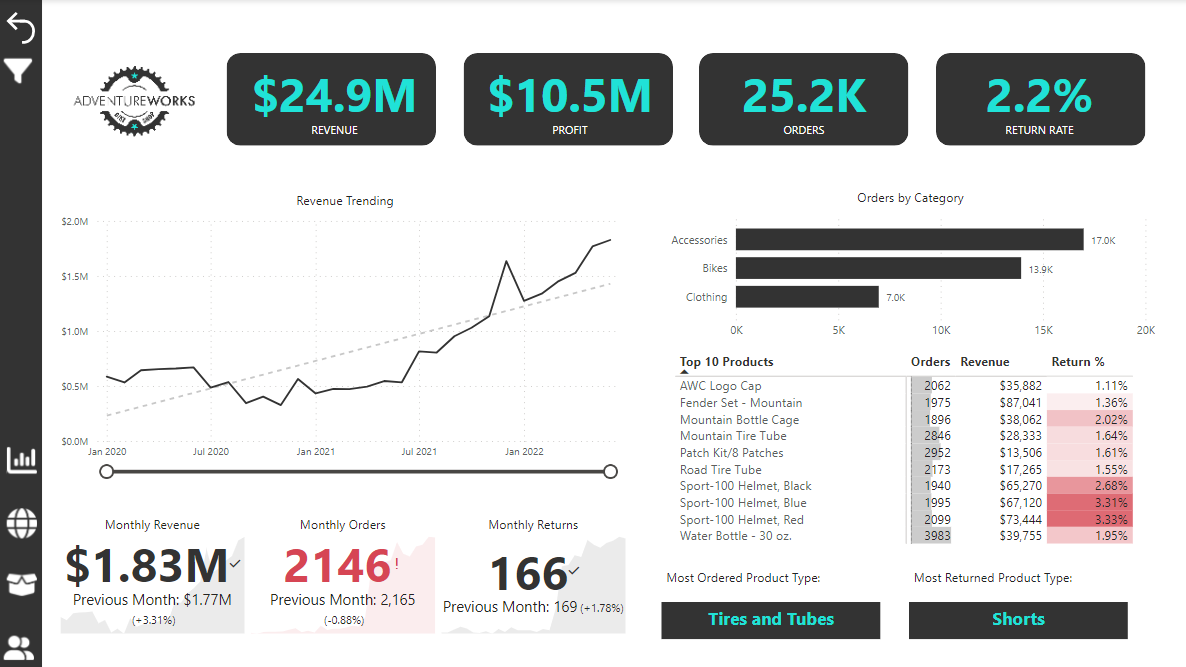

This screenshot's page, from the dashboard's own definition file:
{"tool":"powerbi","page":{"name":"Exec Dashboard","canvas":[1280,720],"ordinal":0},"visuals":[{"type":"card","fields":{"Values":["Measure Table.Total Revenue"]},"box":[230,11.7,261.7,193.3],"z":0,"group":"g2"},{"type":"image","title":"AW Logo","box":[59.3,13,170.4,194.4],"z":0},{"type":"group","id":"g1","title":"KPI Background","box":[244.4,59.1,990.7,100.2],"z":0,"group":"g3"},{"type":"shape","box":[244.4,59.3,225.9,100],"z":0,"group":"g1"},{"type":"actionButton","box":[3.8,477.3,45.3,40.4],"z":0,"group":"g4"},{"type":"shape","title":"Left Nav Background","box":[0,0,45,720.4],"z":1000},{"type":"group","id":"g2","title":"KPI Values","box":[230,11.7,1021.7,193.3],"z":1000,"group":"g3"},{"type":"card","fields":{"Values":["Measure Table.Return Rate"]},"box":[990,11.7,261.7,193.3],"z":1000,"group":"g2"},{"type":"shape","box":[499.4,59.1,225.7,100],"z":1000,"group":"g1"},{"type":"actionButton","box":[3.8,544.7,45.3,40.4],"z":1000,"group":"g4"},{"type":"group","id":"g3","title":"KPI","box":[230,11.7,1021.7,193.3],"z":2000},{"type":"card","fields":{"Values":["Measure Table.Total Orders"]},"box":[736.7,11.7,261.7,193.3],"z":2000,"group":"g2"},{"type":"shape","box":[754.2,59.3,225.9,100],"z":2000,"group":"g1"},{"type":"actionButton","box":[3.8,612.1,45.3,40.4],"z":2000,"group":"g4"},{"type":"card","fields":{"Values":["Measure Table.Total Profit"]},"box":[483.3,11.7,261.7,193.3],"z":3000,"group":"g2"},{"type":"shape","box":[1009.2,59.3,225.9,100],"z":3000,"group":"g1"},{"type":"lineChart","title":"Revenue Trending","fields":{"Y":["Measure Table.Total Revenue"],"Category":["Calendar Lookup.Year","Calendar Lookup.Start of Quarter","Calendar Lookup.Start of Month"]},"box":[59.9,207.1,624.5,313.9],"z":3000},{"type":"actionButton","box":[0,679.5,76,40.4],"z":3000,"group":"g4"},{"type":"kpi","title":"Monthly Revenue","fields":{"Indicator":["Measure Table.Total Revenue"],"TrendLine":["Calendar Lookup.Start of Month"],"Goal":["Measure Table.Previous Month Revenue"]},"box":[59.9,556.6,208.7,132.7],"z":4000},{"type":"kpi","title":"Monthly Orders","fields":{"TrendLine":["Calendar Lookup.Start of Month"],"Indicator":["Measure Table.Total Orders"],"Goal":["Measure Table.Previous Month Orders"]},"box":[265.3,556.6,208.7,132.7],"z":5000},{"type":"kpi","title":"Monthly Returns","fields":{"TrendLine":["Calendar Lookup.Start of Month"],"Indicator":["Measure Table.Total Returns"],"Goal":["Measure Table.Previous Month Returns"]},"box":[470.8,556.6,208.7,132.7],"z":6000},{"type":"barChart","title":"Orders by Category","fields":{"Category":["Product Categories Lookup.CategoryName"],"Y":["Measure Table.Total Orders"]},"box":[713.5,203.9,537.2,171.5],"z":7000},{"type":"pivotTable","fields":{"Rows":["Product Lookup.ProductName"],"Values":["Measure Table.Total Orders","Measure Table.Total Revenue","Measure Table.Return Rate"]},"box":[723.8,376.1,529.1,219.2],"z":8000},{"type":"card","fields":{"Values":["Min(Product Subcategories Lookup.SubcategoryName)"]},"box":[714.3,650.1,236.2,39.7],"z":9000},{"type":"textbox","box":[714.3,608.5,236.2,41.6],"z":10000},{"type":"card","fields":{"Values":["Min(Product Subcategories Lookup.SubcategoryName)"]},"box":[980.8,650.1,236.2,39.7],"z":11000},{"type":"textbox","box":[980.8,608.5,270.2,41.6],"z":12000},{"type":"actionButton","box":[0,1.6,45.3,58.2],"z":13000},{"type":"group","id":"g4","title":"Navigation Buttons","box":[0,477.3,76,242.7],"z":14000},{"type":"actionButton","box":[0,58.2,45.3,38.8],"z":15000}]}

Visuals, with their boxes on the page's 1280x720 design canvas (x1, y1, x2, y2). These are canvas units, not pixel positions in the 1186x667 screenshot, which may show the page scaled, cropped or inside an application window:
card - Measure Table.Total Revenue: <box>230,12,492,205</box>
"AW Logo" image: <box>59,13,230,207</box>
"KPI Background" group: <box>244,59,1235,159</box>
shape: <box>244,59,470,159</box>
actionButton: <box>4,477,49,518</box>
"Left Nav Background" shape: <box>0,0,45,720</box>
"KPI Values" group: <box>230,12,1252,205</box>
card - Measure Table.Return Rate: <box>990,12,1252,205</box>
shape: <box>499,59,725,159</box>
actionButton: <box>4,545,49,585</box>
"KPI" group: <box>230,12,1252,205</box>
card - Measure Table.Total Orders: <box>737,12,998,205</box>
shape: <box>754,59,980,159</box>
actionButton: <box>4,612,49,652</box>
card - Measure Table.Total Profit: <box>483,12,745,205</box>
shape: <box>1009,59,1235,159</box>
"Revenue Trending" lineChart: <box>60,207,684,521</box>
actionButton: <box>0,680,76,720</box>
"Monthly Revenue" kpi: <box>60,557,269,689</box>
"Monthly Orders" kpi: <box>265,557,474,689</box>
"Monthly Returns" kpi: <box>471,557,680,689</box>
"Orders by Category" barChart: <box>714,204,1251,375</box>
pivotTable - Product Lookup.ProductName x Measure Table.Total Orders: <box>724,376,1253,595</box>
card - Min(Product Subcategories Lookup.SubcategoryName): <box>714,650,950,690</box>
textbox: <box>714,608,950,650</box>
card - Min(Product Subcategories Lookup.SubcategoryName): <box>981,650,1217,690</box>
textbox: <box>981,608,1251,650</box>
actionButton: <box>0,2,45,60</box>
"Navigation Buttons" group: <box>0,477,76,720</box>
actionButton: <box>0,58,45,97</box>
